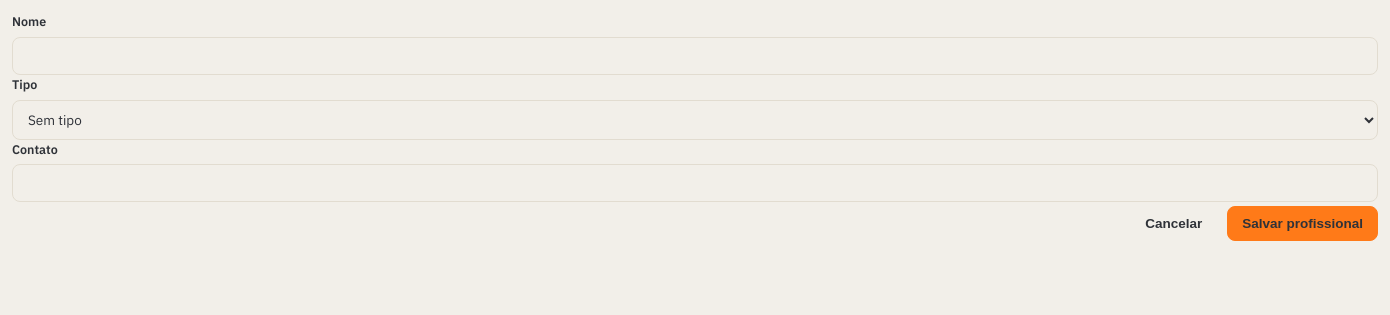
ProfessionalQuickCreateForm › mostra a mensagem da API quando a criação falha e não fecha o formulário
This screenshot has width=1390, height=315.
Type "Carla" into the field labelled "Nome".
click(695, 56); type("Carla")  # box [12,37,1378,75]
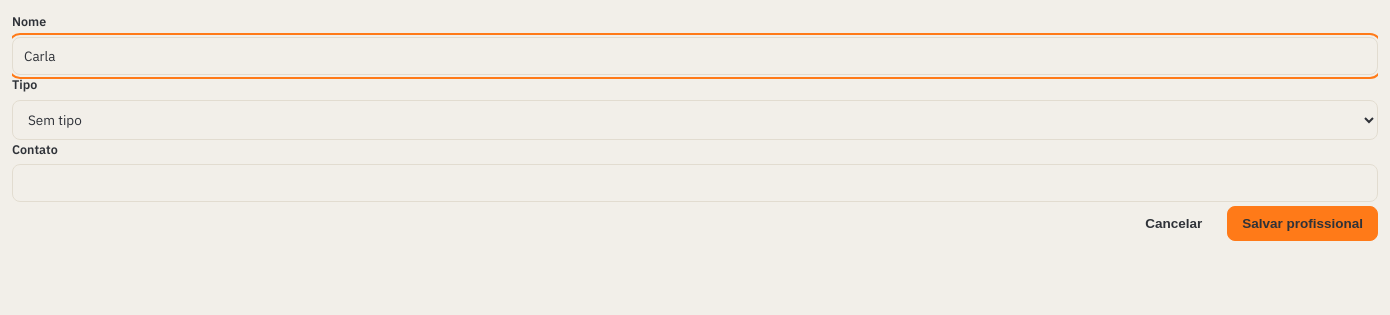
Click the button "Salvar profissional".
click(1303, 224)  # box [1227,206,1378,241]
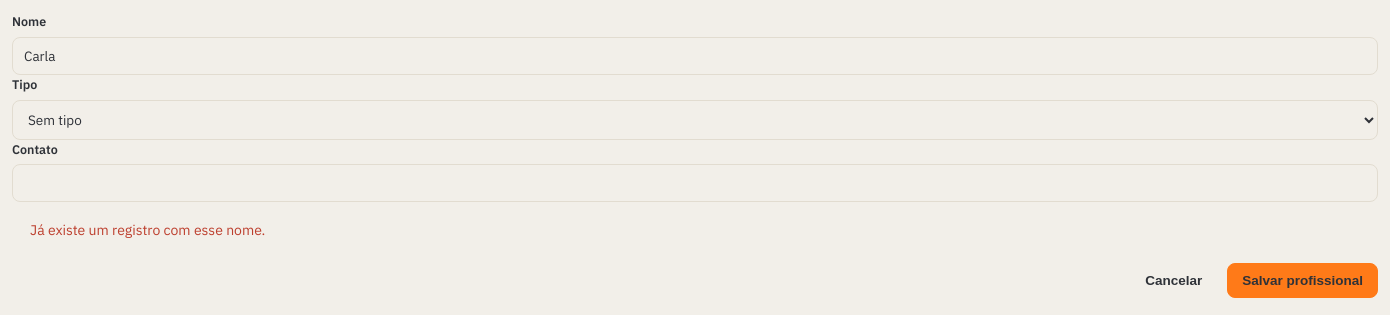
Now the text "Já existe um registro com esse nome." is shown, box [30,221,265,239]
